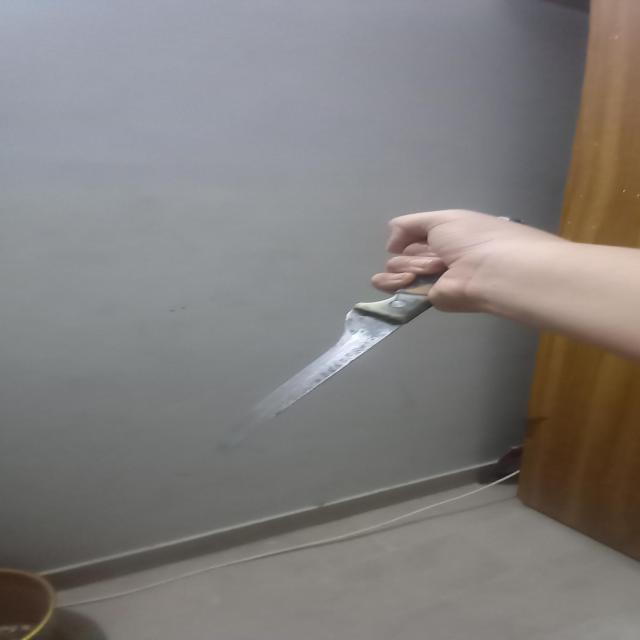Knife: (221, 215, 522, 455)
Person: (372, 207, 640, 359)
